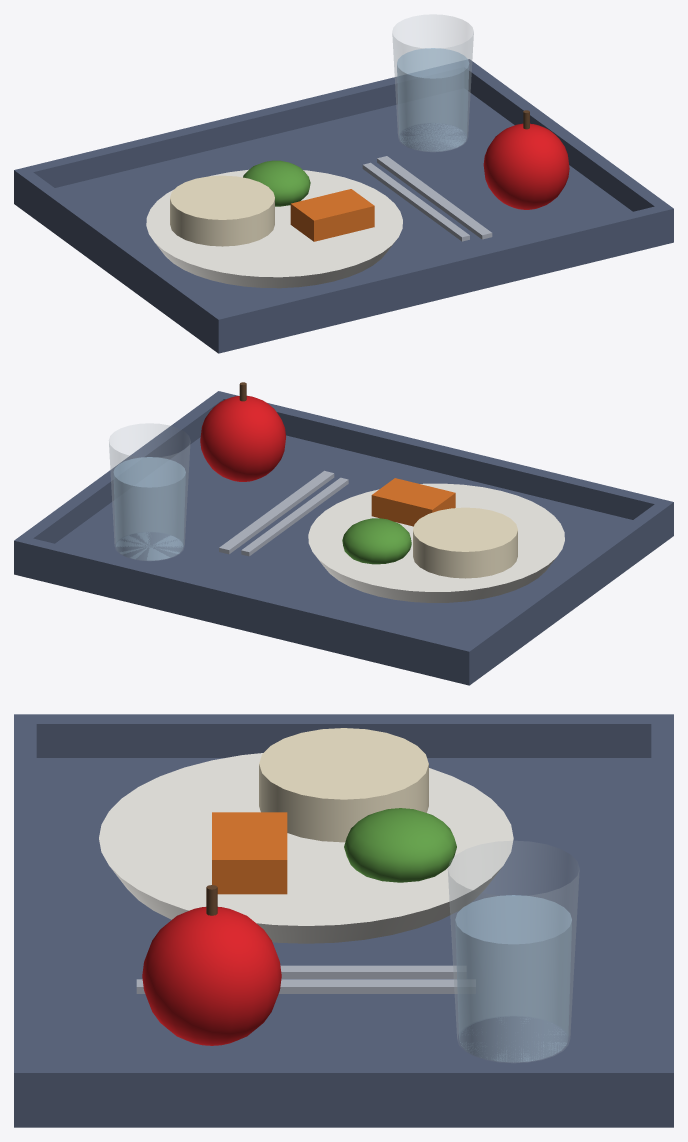
Rendered from sch-042.glb.
3 renders of one model, top to bottom at view 1: azimuth 30°, elevation 25°; view 2: azimuth 150°, elevation 25°; view 3: azimuth 270°, elevation 25°, orthographic. The views are drawn at different scales.
Parts seen in each view (by area): view 1: tray, ceramic_white, lab_glass, liquid_water, food_rice, accent_red, food_carrot, steel, food_greens; view 2: tray, ceramic_white, lab_glass, liquid_water, food_rice, accent_red, steel, food_carrot, food_greens; view 3: tray, ceramic_white, lab_glass, liquid_water, accent_red, food_rice, food_greens, food_carrot, steel.
Boxes of the visible parts, <box> form: tray: <box>14,59,673,353</box>; ceramic_white: <box>146,169,402,288</box>; lab_glass: <box>392,14,473,151</box>; liquid_water: <box>397,48,469,151</box>; food_rice: <box>170,175,274,246</box>; accent_red: <box>483,123,569,209</box>; food_carrot: <box>290,189,374,241</box>; steel: <box>362,156,492,241</box>; food_greens: <box>243,160,310,206</box>; tray: <box>14,391,673,685</box>; ceramic_white: <box>308,483,564,602</box>; lab_glass: <box>109,423,190,560</box>; liquid_water: <box>113,457,185,560</box>; food_rice: <box>413,507,517,578</box>; accent_red: <box>200,395,285,481</box>; steel: <box>219,470,348,556</box>; food_carrot: <box>371,478,455,526</box>; food_greens: <box>342,518,411,564</box>; tray: <box>14,714,673,1127</box>; ceramic_white: <box>99,753,513,943</box>; lab_glass: <box>448,841,579,1062</box>; liquid_water: <box>455,895,571,1062</box>; accent_red: <box>142,907,281,1045</box>; food_rice: <box>259,728,428,842</box>; food_greens: <box>344,808,456,882</box>; food_carrot: <box>212,812,287,894</box>; steel: <box>136,965,475,993</box>.
Bounding box in the file's own units: 0.45 × 0.112 × 0.35.
